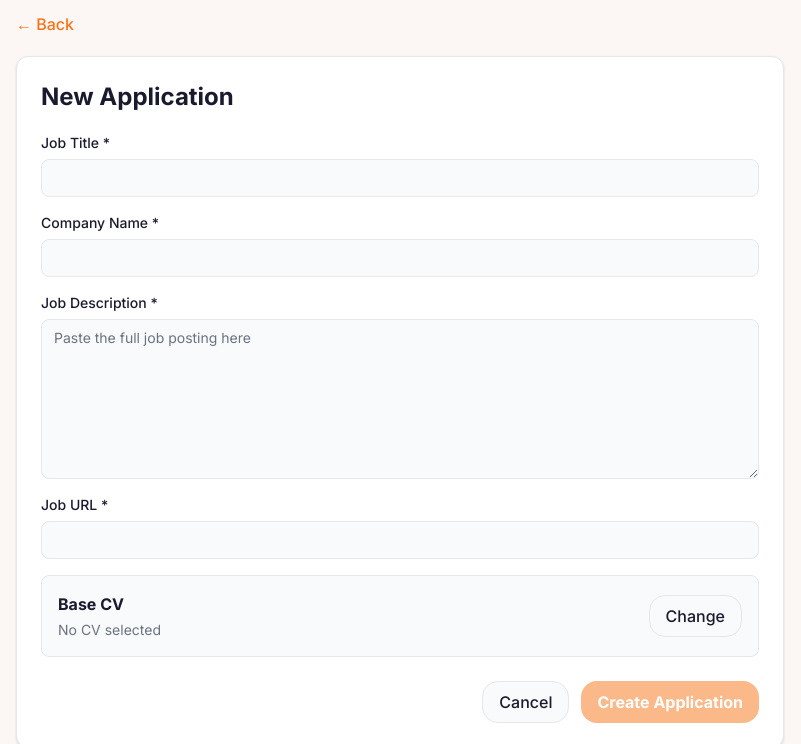
Test case: FE-UI-010 — submission states › shows an error banner and clears it when a field changes
The width and height of the screenshot is (801, 744).
Type "Software Engineer" into the field labelled "Job Title *". click: (400, 178)
box: [41,159,759,197]
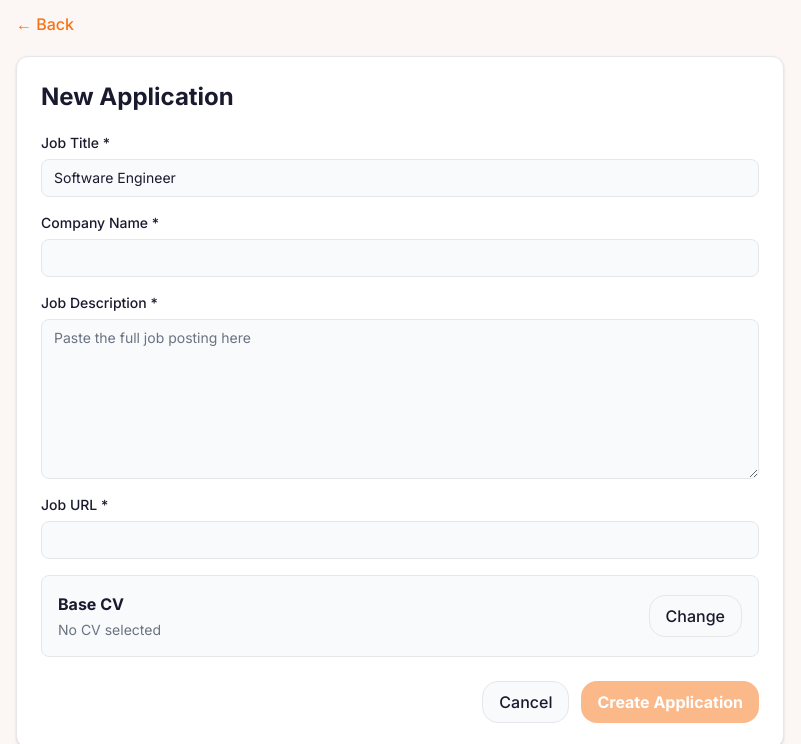
Type "Acme Corp" into the field labelled "Company Name *". click: (400, 258)
box: [41,239,759,277]
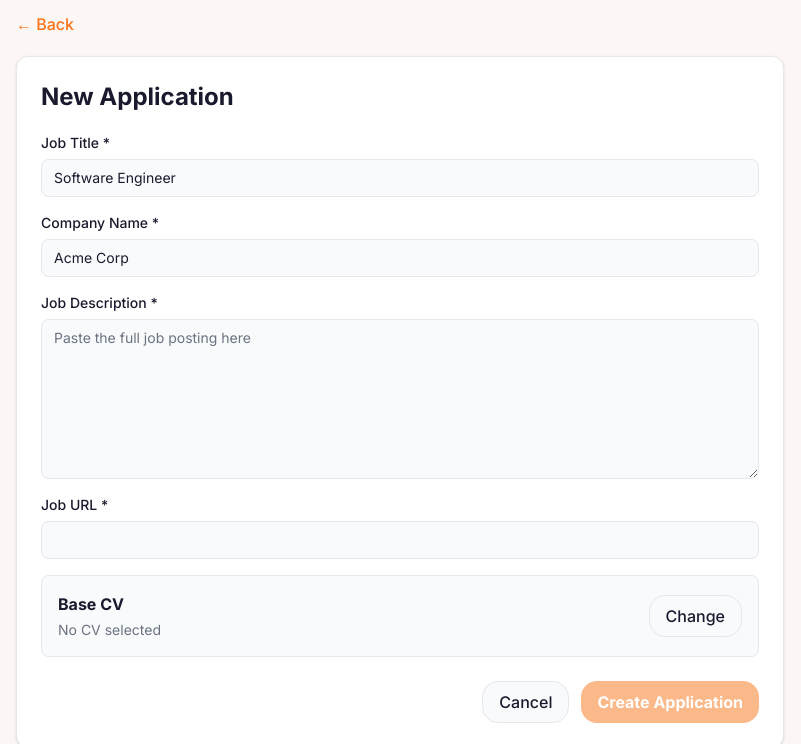
Type "Build resilient customer-facing frontend systems." into the text box labelled "Job Description *". click: (400, 399)
box: [41,319,759,479]
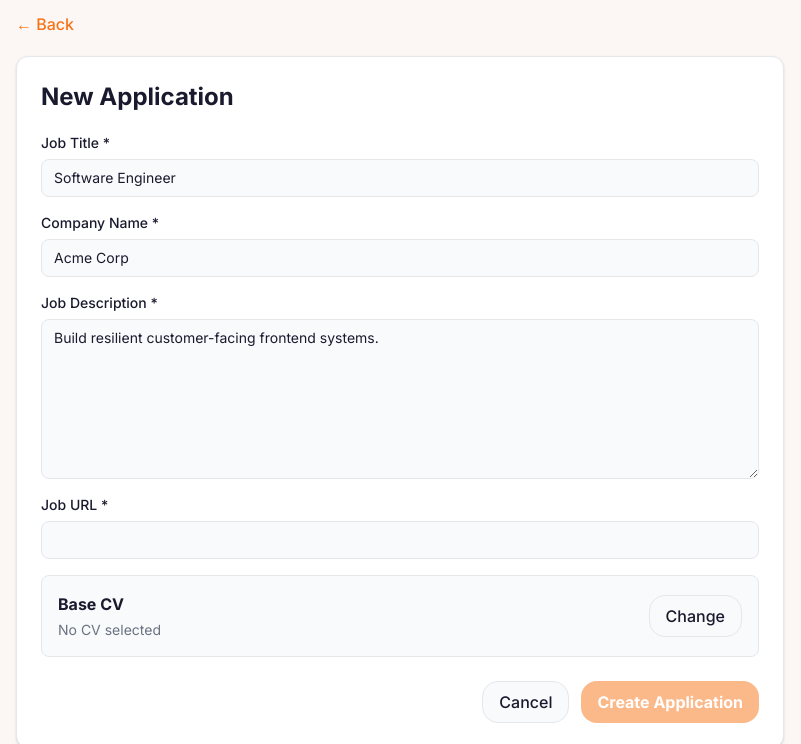
Type "https://acme.example/jobs/1" into the field labelled "Job URL *". click: (400, 540)
box: [41,521,759,559]
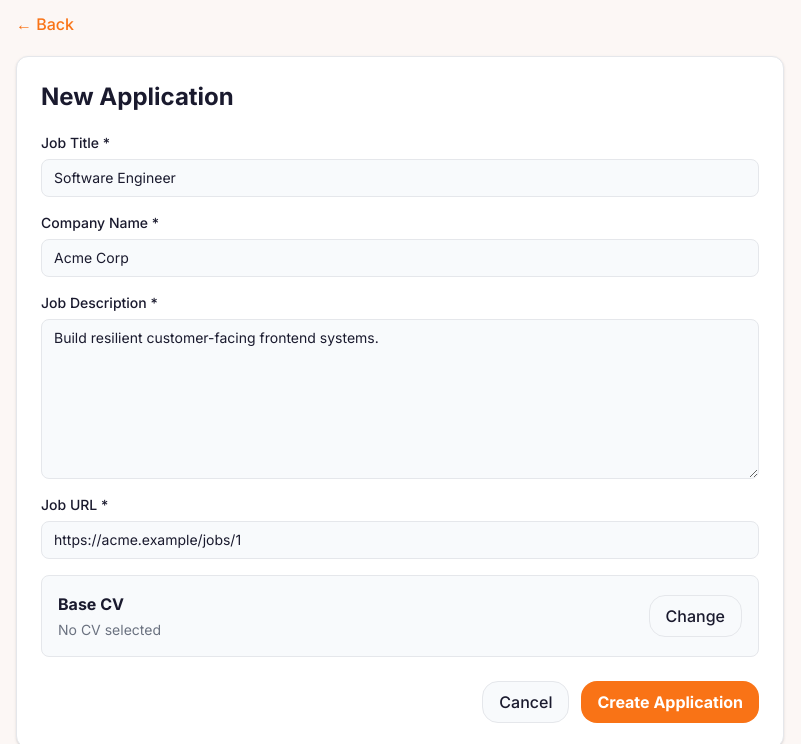
Click the button "Create Application". click: click(670, 702)
box: [581,681,759,723]
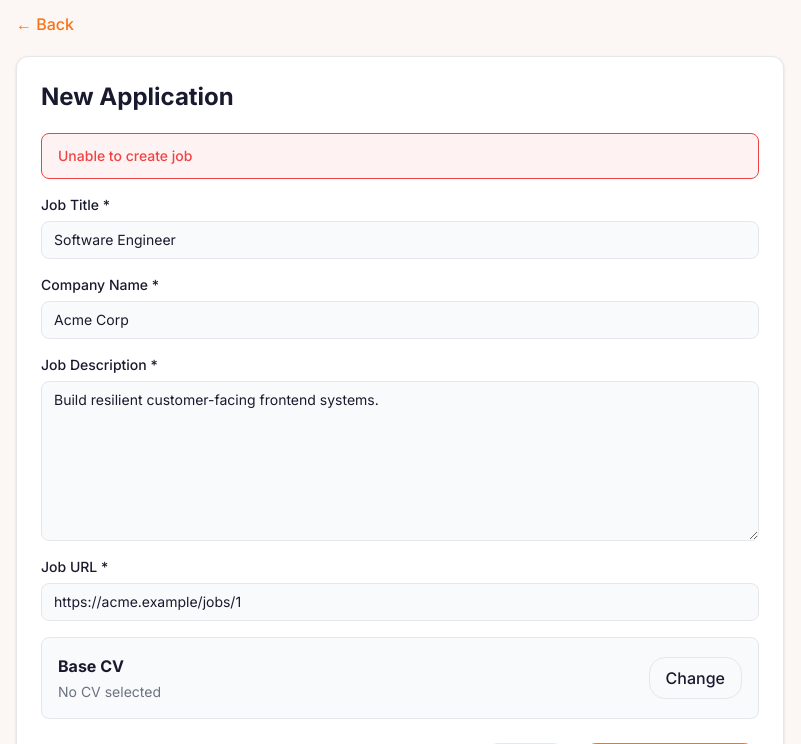
Expected: the message reads "Unable to create job", [58,147,192,164]
Replace the text in the field labelled "Job Title *" with "Senior Software Engineer". click: (400, 240)
box: [41,221,759,259]
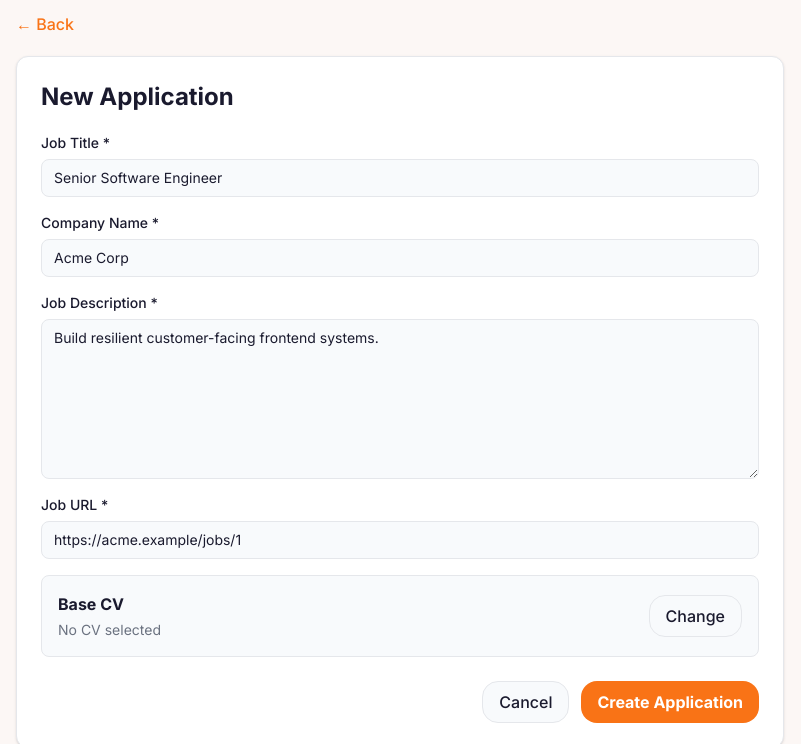
Expected: the message "Unable to create job" is gone
